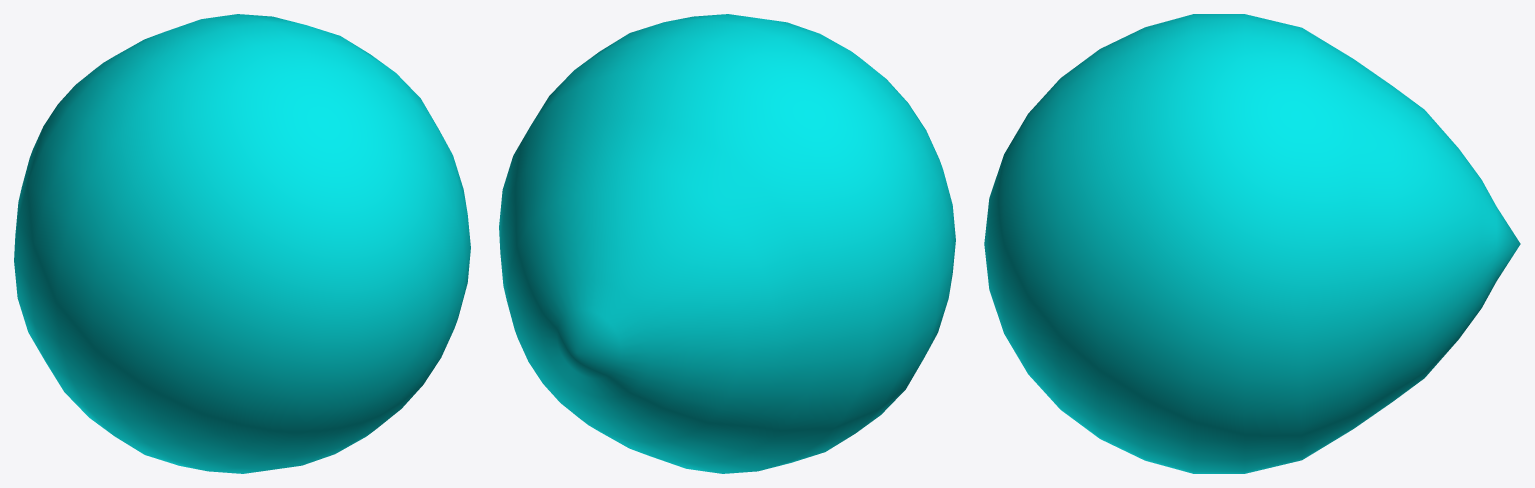
Rendered from Cannon.fbx.
3 views of the same model, side by side, from view 1: azimuth 30°, elevation 25°; view 2: azimuth 150°, elevation 25°; view 3: azimuth 270°, elevation 25° (orthographic).
Parts seen in each view (by area): view 1: 球; view 2: 球; view 3: 球.
Boxes of the visible parts, box(x1,y1,x2,y2) form: 球: box(14, 14, 470, 473); 球: box(499, 14, 955, 473); 球: box(984, 14, 1520, 473).
Bounding box in the file's own units: 1.96 × 1.96 × 2.29.
